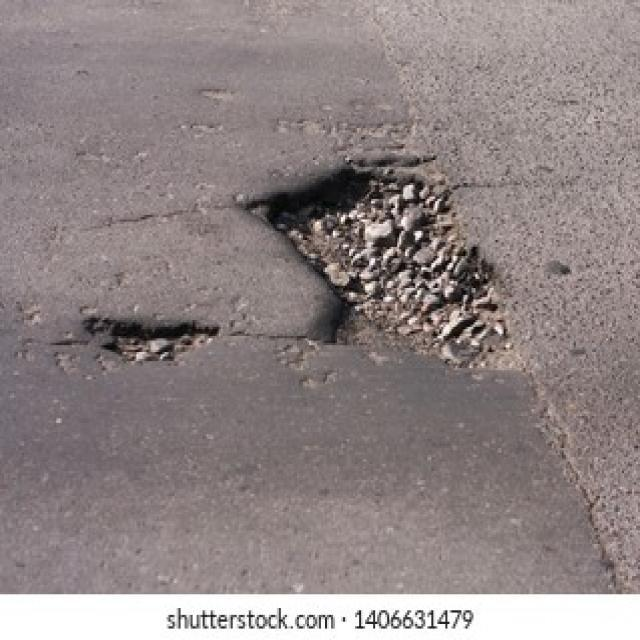Pothole: (238, 151, 528, 372), (80, 313, 219, 364)
